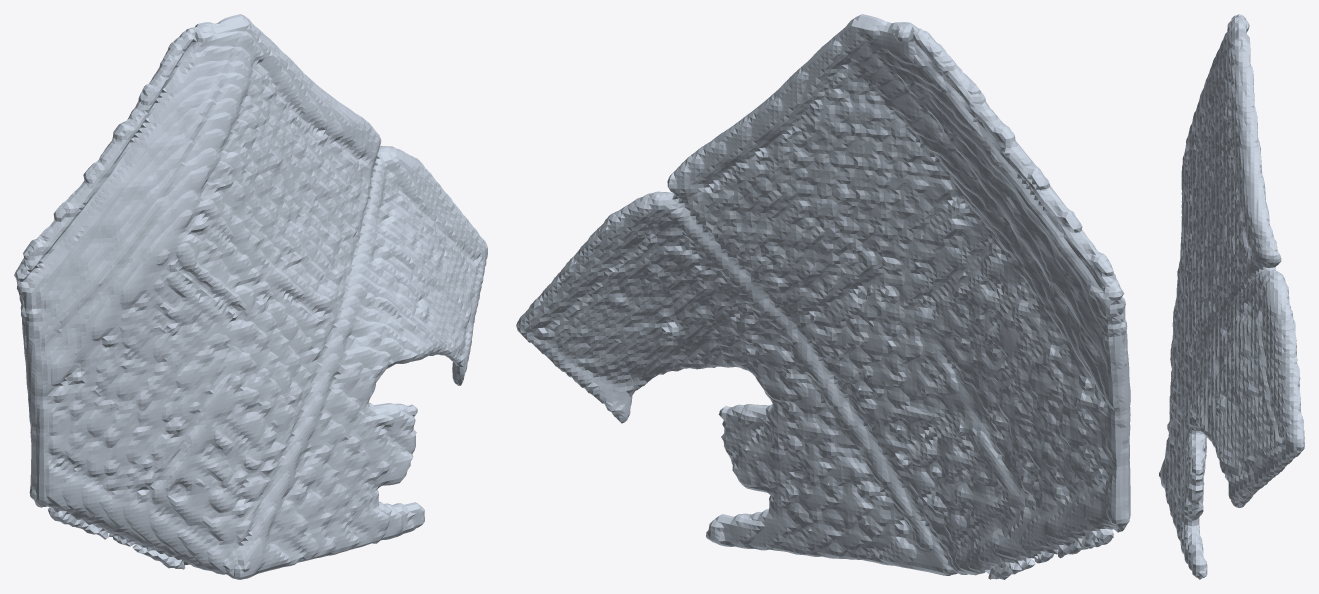
File: raw.glb
3 renders of one model, left to right at view 1: azimuth 30°, elevation 25°; view 2: azimuth 150°, elevation 25°; view 3: azimuth 270°, elevation 25°, orthographic. The views are drawn at different scales.
Visible parts, largest first — view 1: world; view 2: world; view 3: world.
Boxes of the visible parts, x1,y1,x2,y2 form: world: (14, 14, 487, 579); world: (516, 14, 1130, 579); world: (1159, 14, 1304, 579).
Size of the model in its own units: 0.45 by 0.4513 by 0.125.
